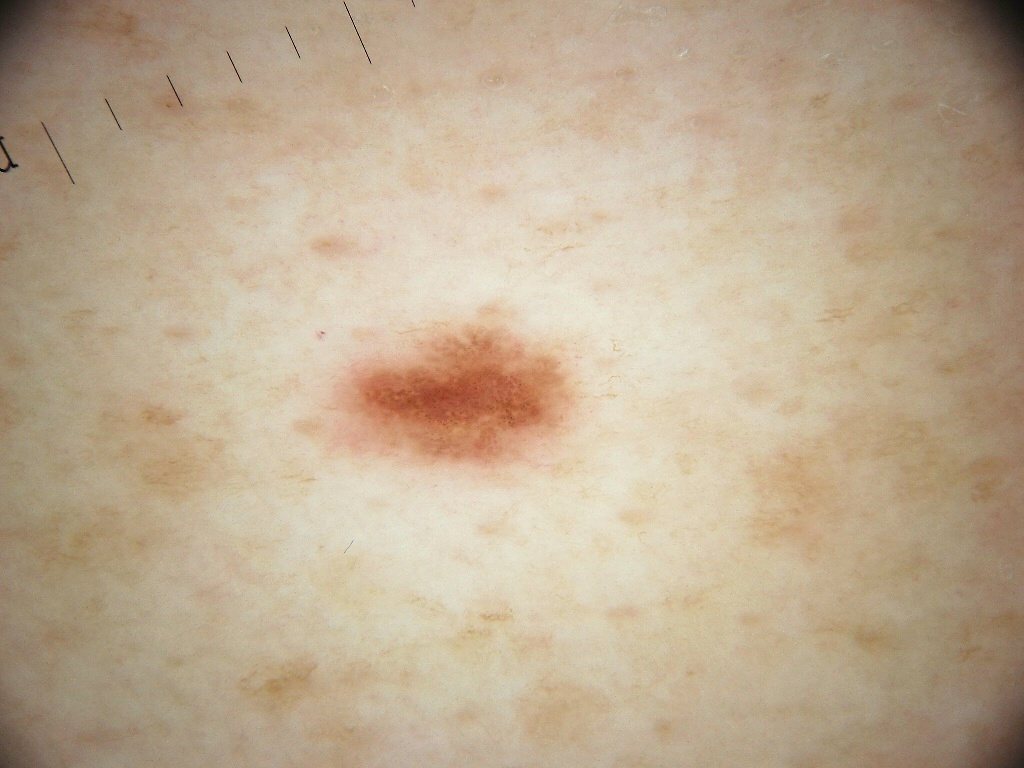Detected Lesion: (324, 304, 607, 477)
